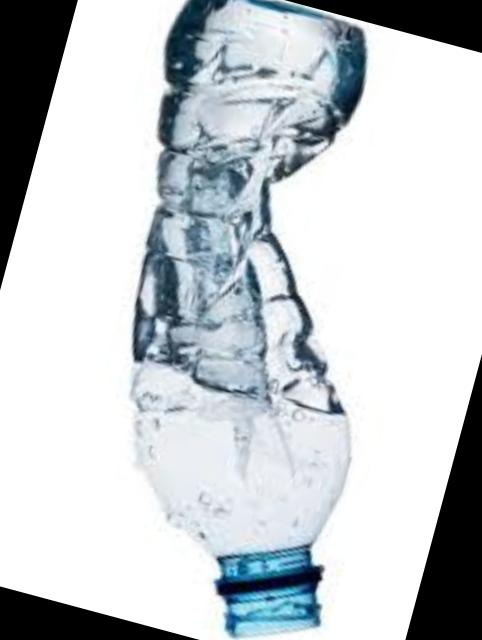plastic: (127, 0, 360, 639)
